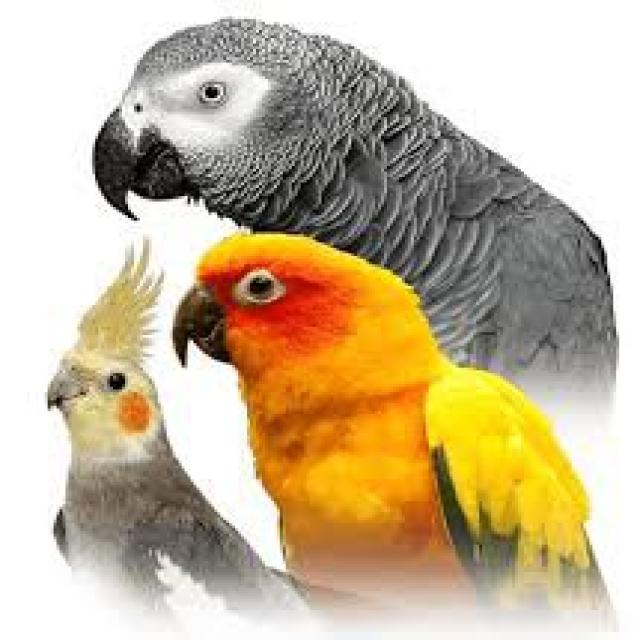Parrot: (91, 7, 615, 367), (173, 229, 602, 617), (45, 240, 164, 615)
